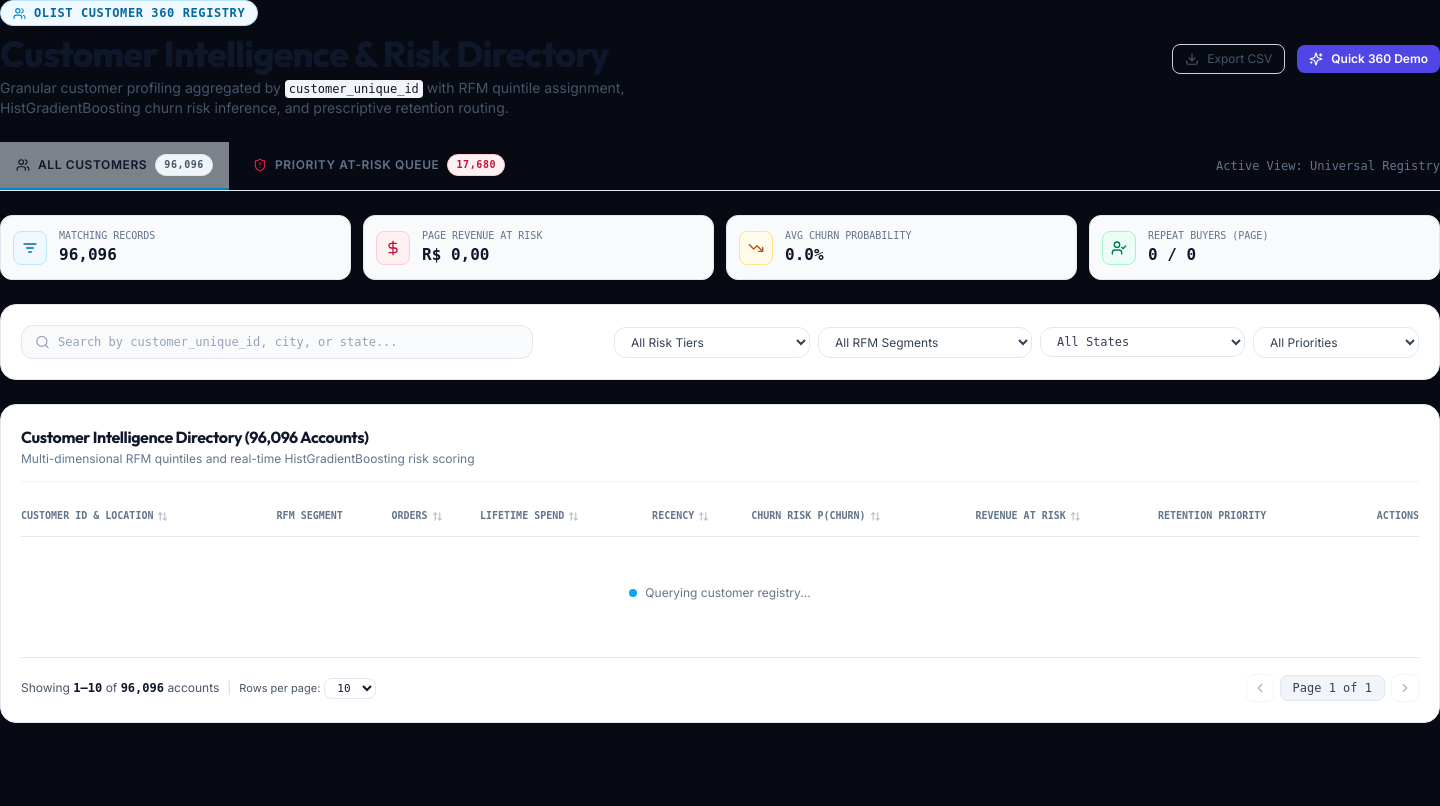
Test: CustomerIntelligenceView / CustomerDirectoryView Component › filters customers when searching with debounce
Type "8d50f5ea" into the field with placeholder "Search by customer_unique_id, city, or state...". click: (277,342)
box: [21,325,533,359]
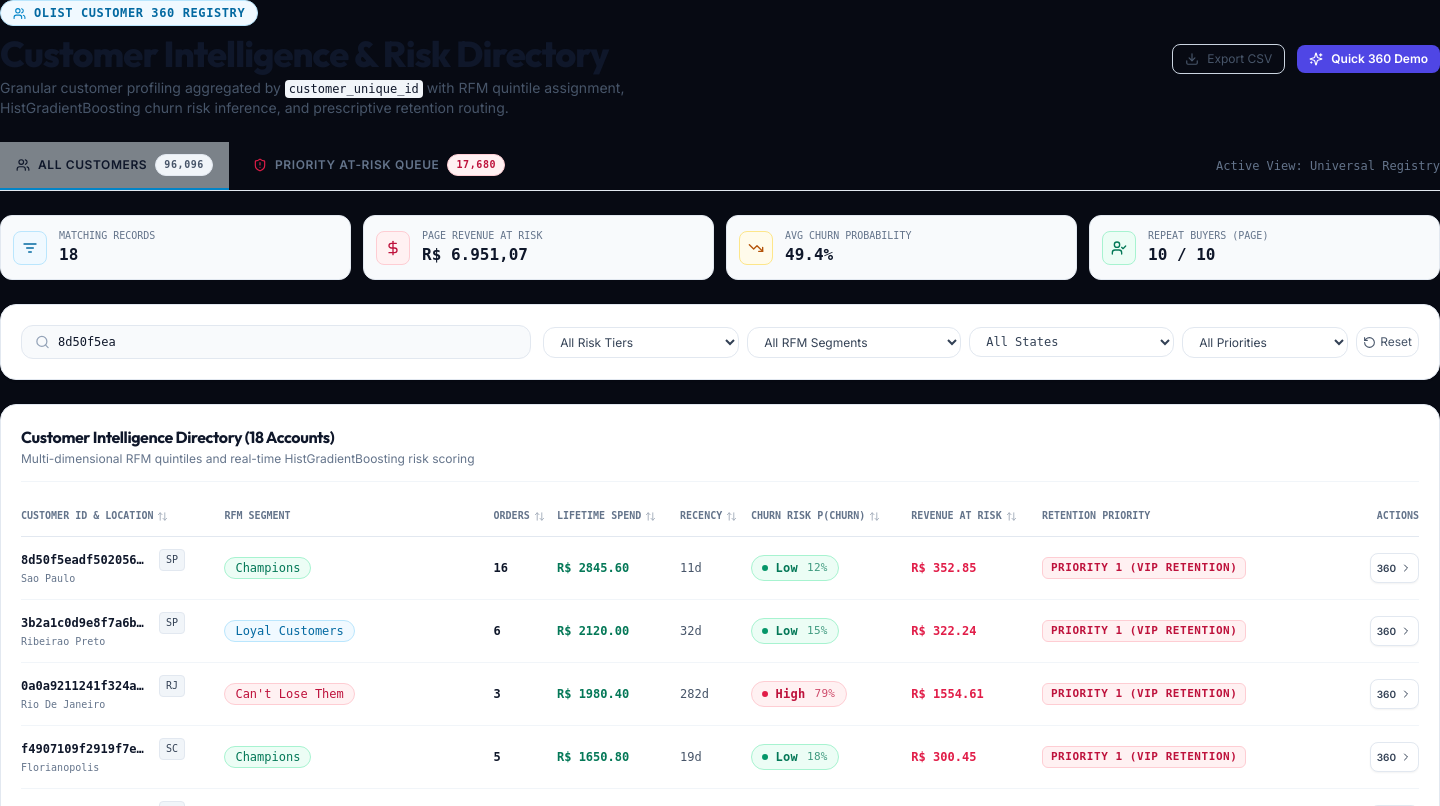
Now the text "8d50f5eadf502056fa2f144b30424d35" is shown, box [21,552,151,568]
